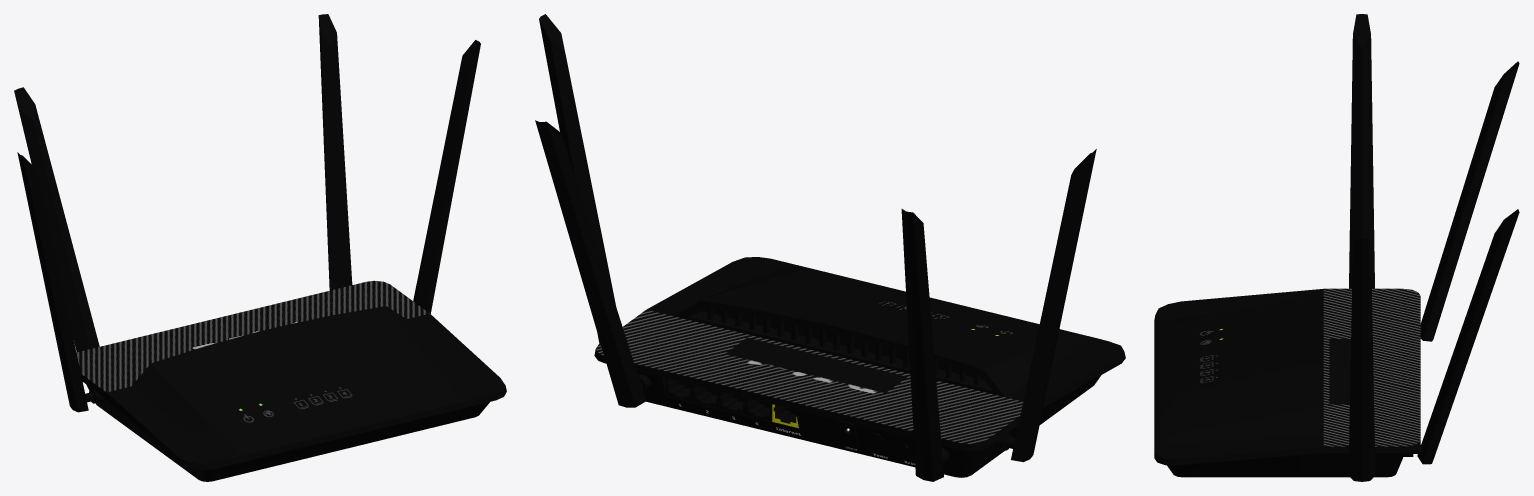
The model's file is dev-router.glb.
3 views of the same model, side by side, from view 1: azimuth 30°, elevation 25°; view 2: azimuth 150°, elevation 25°; view 3: azimuth 270°, elevation 25° (orthographic). The views are drawn at different scales.
Parts seen in each view (by area): view 1: body; view 2: body; view 3: body.
Boxes of the visible parts, bbox=[...] form: body: bbox=[14, 14, 506, 481]; body: bbox=[535, 14, 1125, 481]; body: bbox=[1154, 14, 1519, 481].
Size of the model in its own units: 0.3 by 0.1781 by 0.2057.
6 materials, 2 textured.
